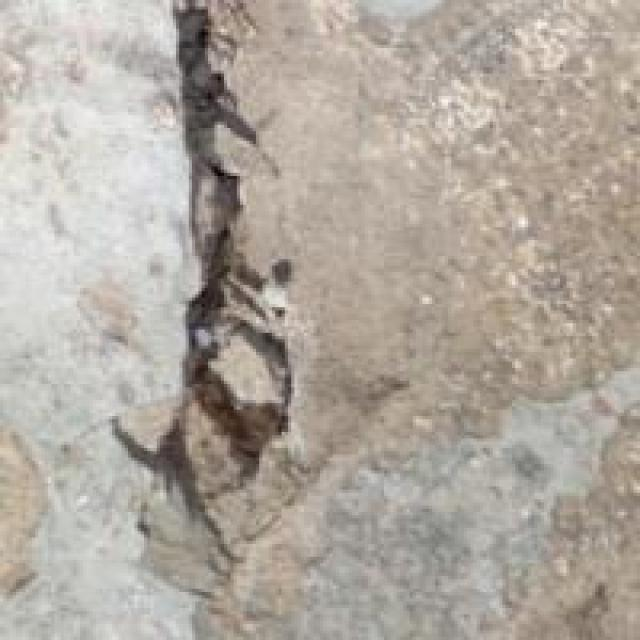Crack: (116, 3, 375, 569)
